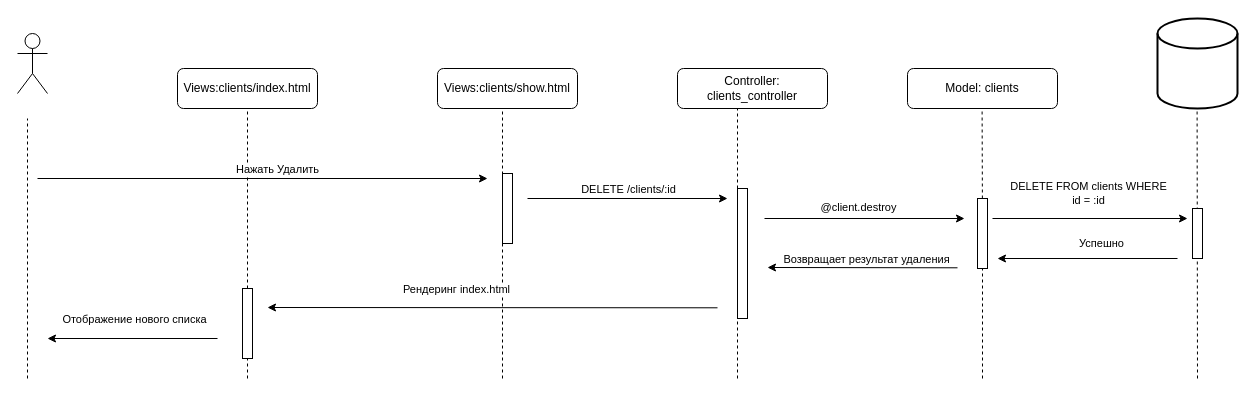
Image size: 1256x397. Some labels were removed from this diagram. Here are the shapes that lost their labels. From the top down, the centre of each, then its label:
(32,63): User
(1197,63): DB
